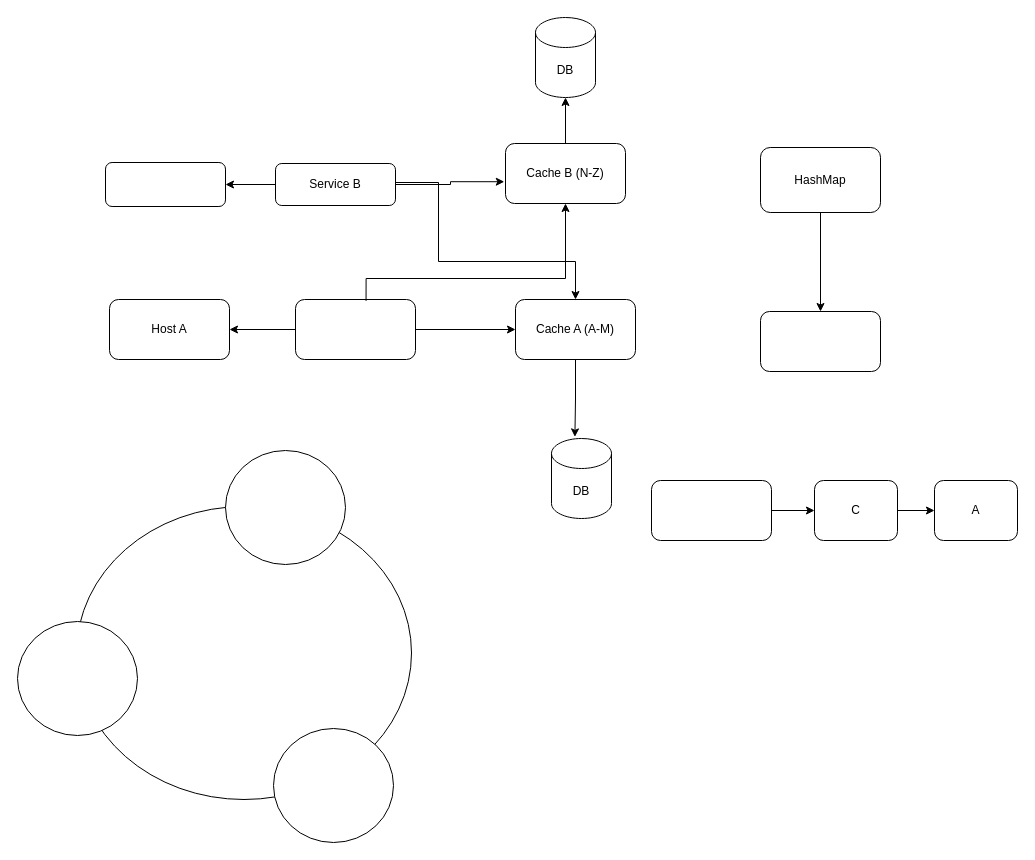
Image size: 1035x860. Some labels were removed from this diagram. The box of each missing label's shape, as (x1, y1, x2, y2) in pixels:
Double Linked List: (760, 310, 880, 372)
HEAD: (650, 480, 772, 540)
Host B: (104, 162, 226, 206)
Service A: (294, 298, 416, 360)
